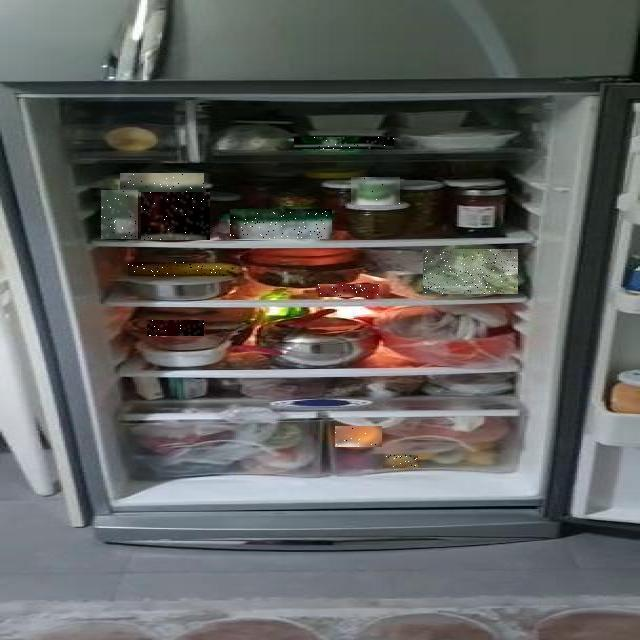banana: (11, 138, 248, 414)
cheese: (64, 120, 396, 358), (18, 96, 222, 288)
orange: (144, 224, 526, 640)
tomato: (36, 120, 246, 360)
